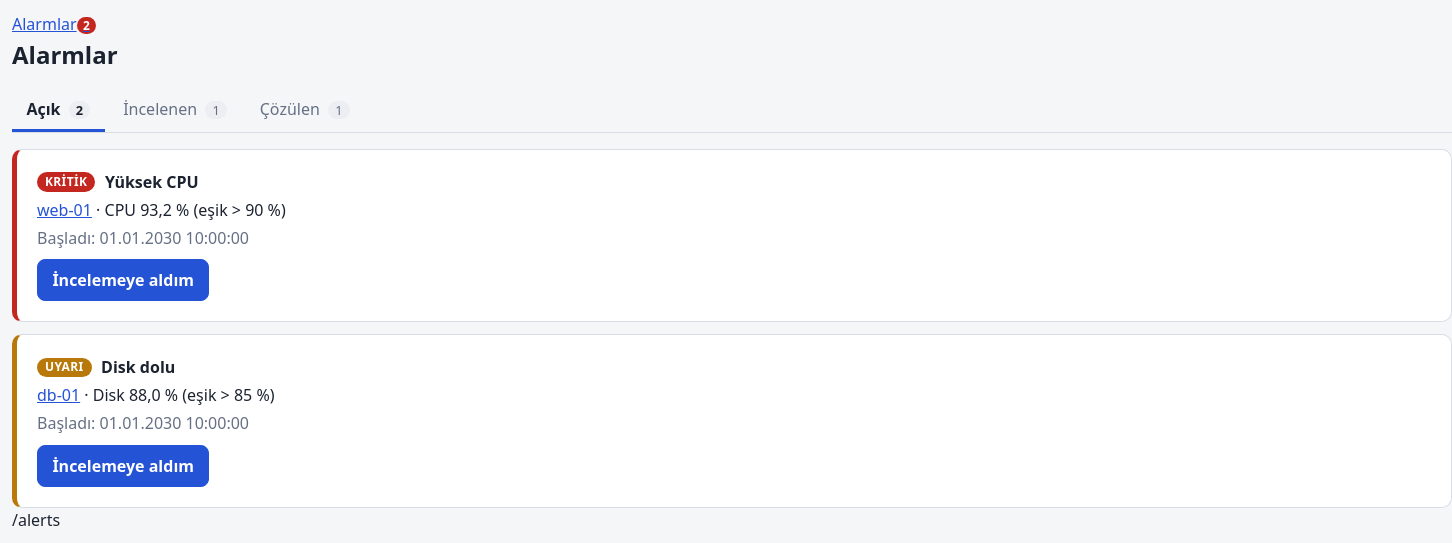
Test case: AlertsPage › "İncelenen" sekmesi kimin aldığını gösterir ve düğme sunmaz
Click the tab "İncelenen 1" at x=175, y=110, box [109,89,241,132]
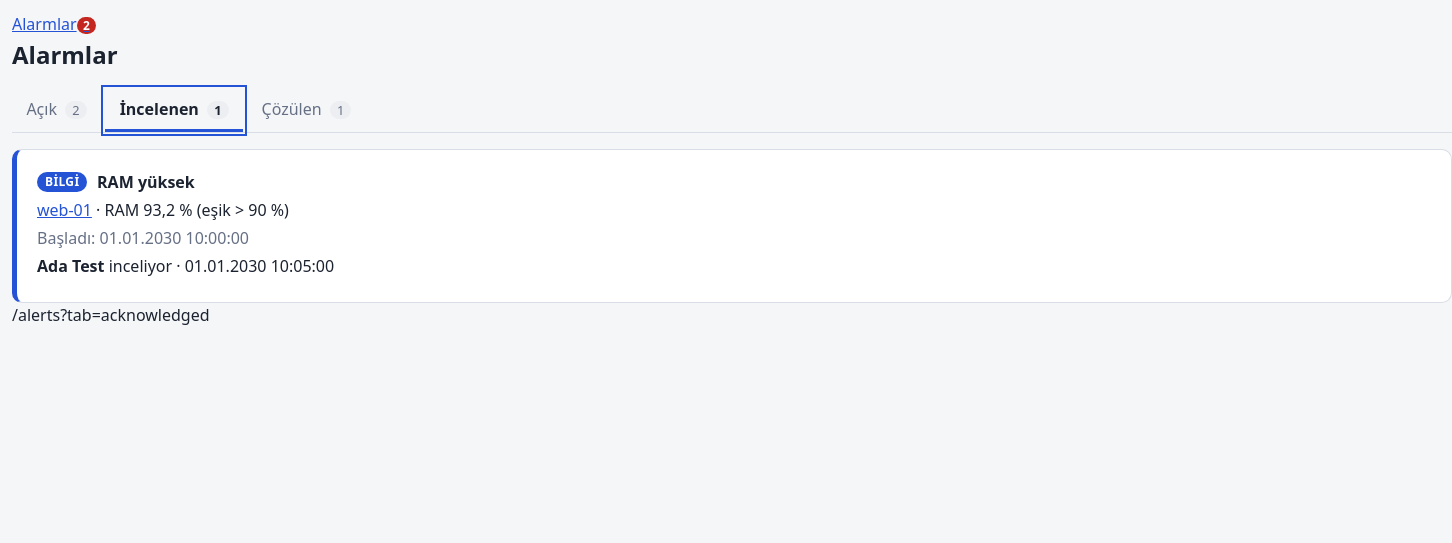
Expected: the text "Ada Test" is shown, [37,255,104,277]
Expected: the list item with test id "alert-card" shows "inceliyor", [104,255,172,277]
Expected: the button "İncelemeye aldım" is gone
